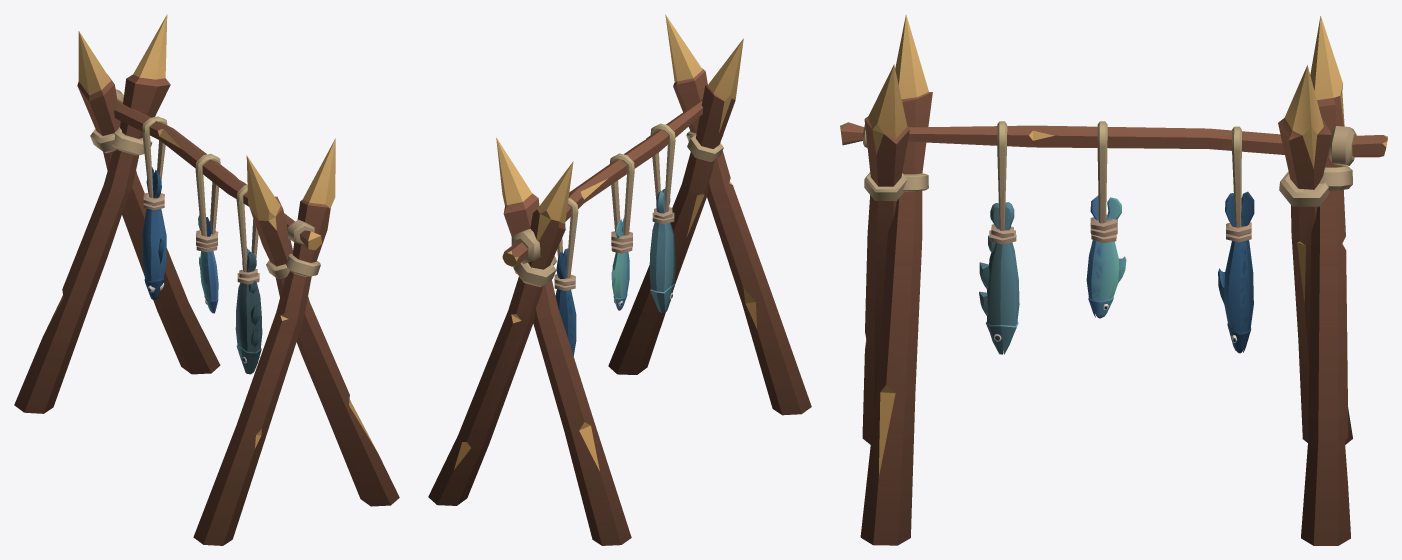
The model's file is DriedFish_1_C.glb.
The picture shows the model from 3 angles, left to right: view 1: azimuth 30°, elevation 25°; view 2: azimuth 150°, elevation 25°; view 3: azimuth 270°, elevation 25°; orthographic projection. The views are drawn at different scales.
Parts seen in each view (by area): view 1: DriedFish_1_C; view 2: DriedFish_1_C; view 3: DriedFish_1_C.
Boxes of the visible parts, bbox=[...] form: DriedFish_1_C: bbox=[14, 14, 399, 545]; DriedFish_1_C: bbox=[428, 14, 811, 545]; DriedFish_1_C: bbox=[840, 14, 1387, 545].
Bounding box in the file's own units: 1.22 × 2.18 × 2.41.
Materials: 1 (1 with a texture image).
